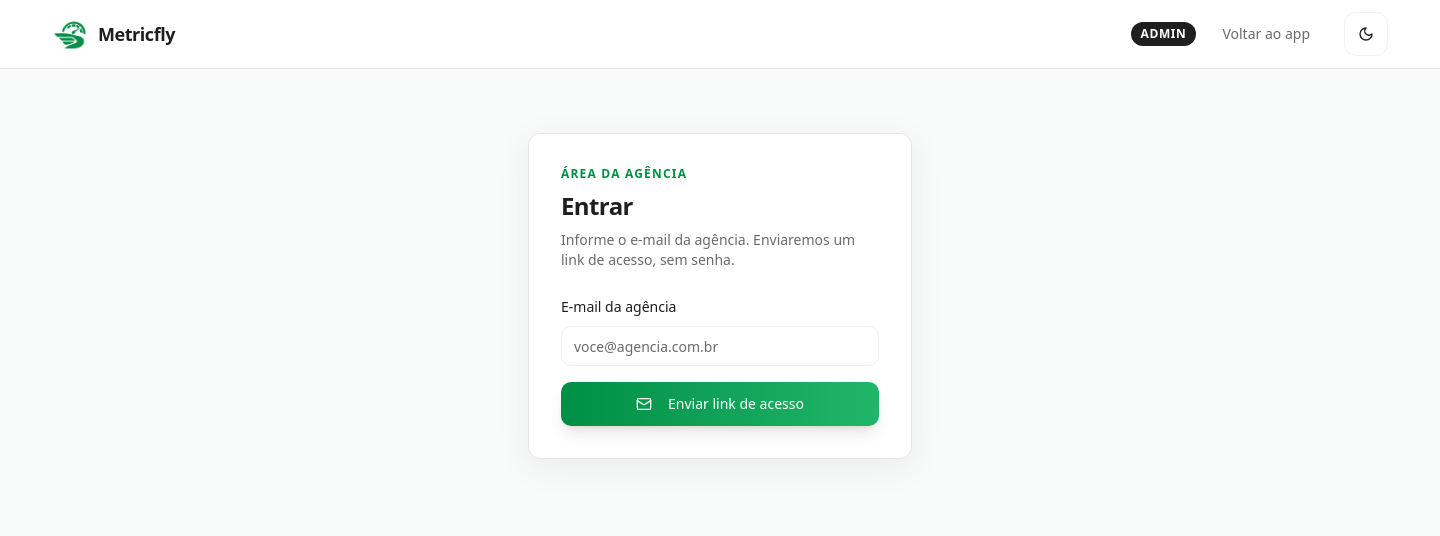
Agency admin area › does not say whether an e-mail is registered when sending fails
In the field labelled "E-mail da agência": (720, 346) [561,326,879,366], type "desconhecido@exemplo.com"
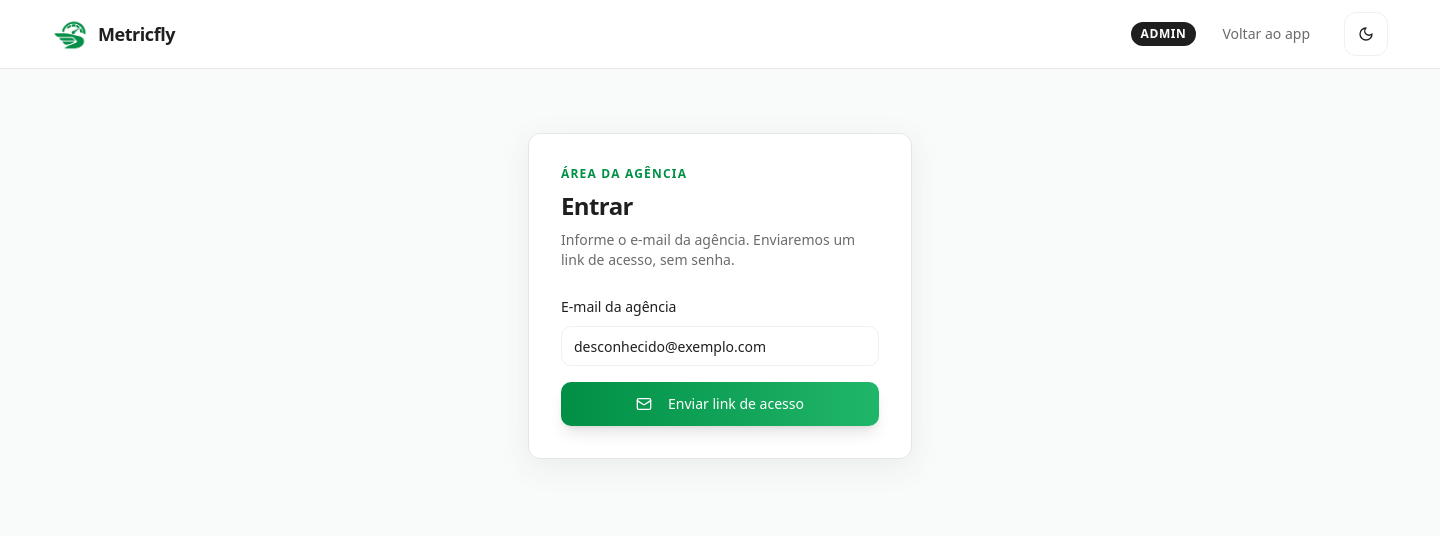
Click the button "Enviar link de acesso": (720, 404) [561,382,879,426]
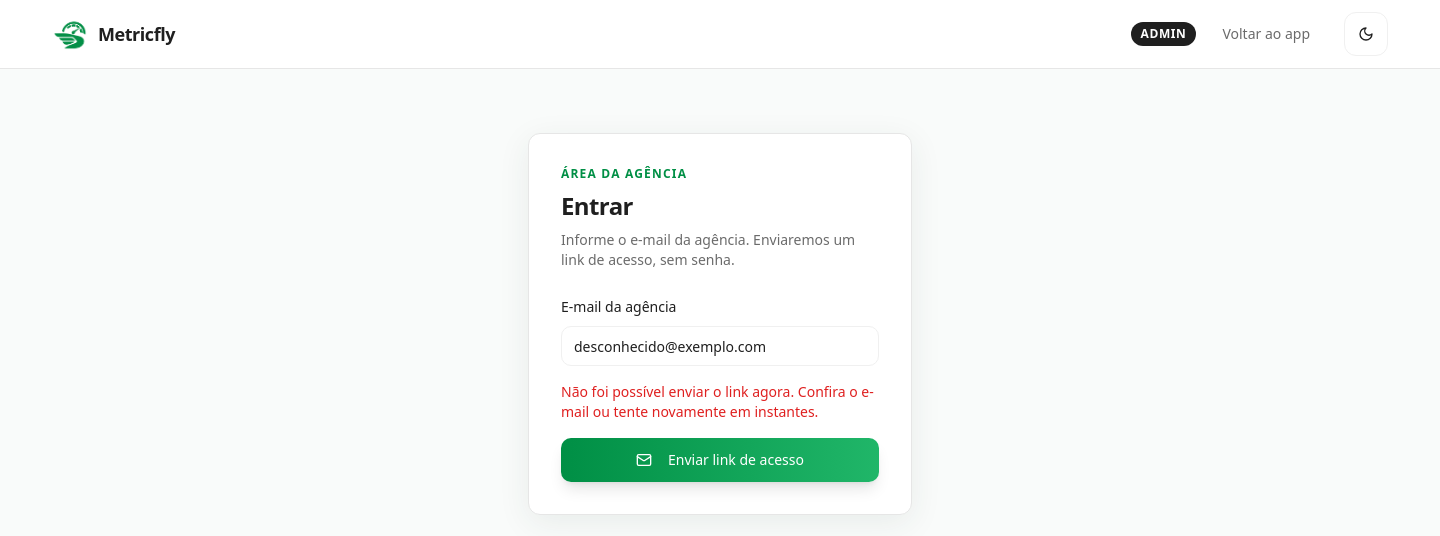
Now the message shows "Não foi possível enviar o link agora", box [561,382,874,421]
